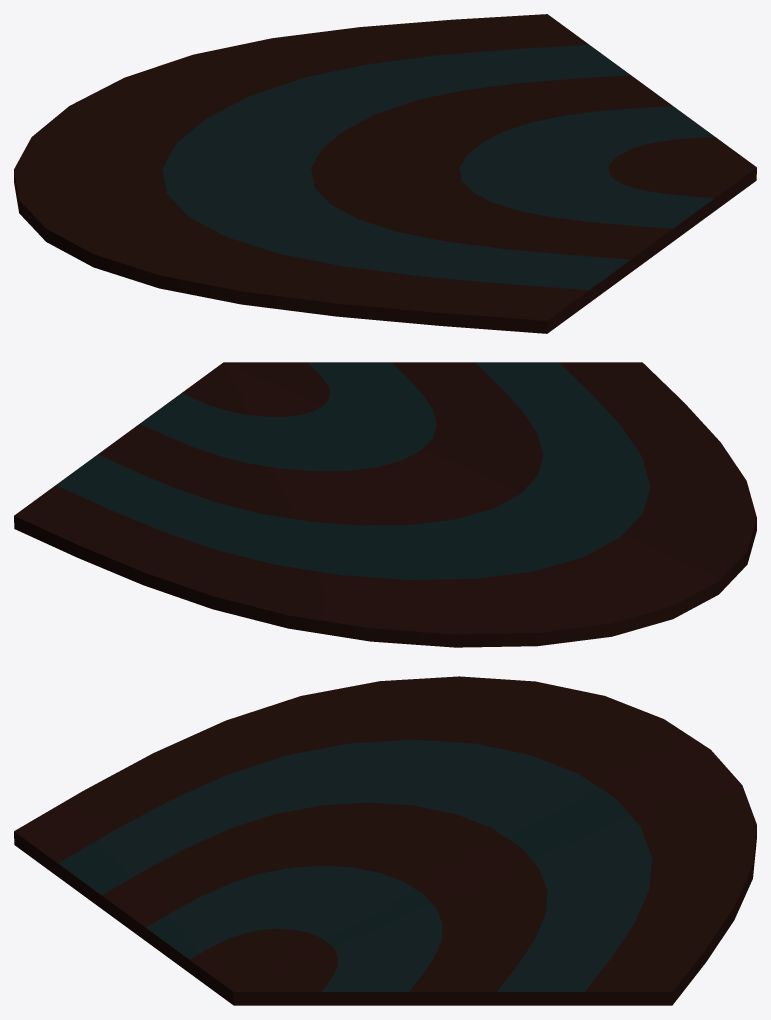
Rendered from tracksharp_left1.fbx.
3 renders of one model, top to bottom at view 1: azimuth 30°, elevation 25°; view 2: azimuth 150°, elevation 25°; view 3: azimuth 270°, elevation 25°, orthographic. The views are drawn at different scales.
Visible parts, largest first — view 1: sharp_left1; view 2: sharp_left1; view 3: sharp_left1.
Part boxes in pixels (x1,y1,x2,y2): sharp_left1: [14, 14, 756, 333]; sharp_left1: [14, 362, 756, 647]; sharp_left1: [14, 676, 756, 1005].
Size of the model in its own units: 480 by 15.3 by 489.
1 material, 1 textured.
